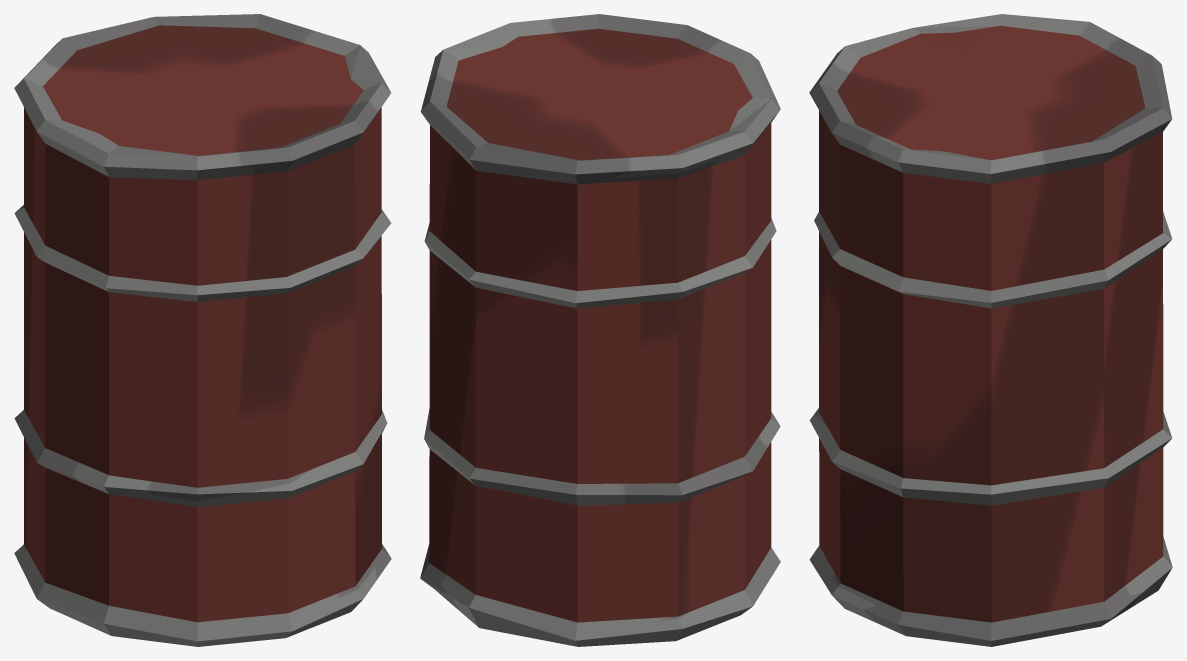
Rendered from SM_Prop_Barrel_Coloured_01_669.obj.
3 views of the same model, side by side, from view 1: azimuth 30°, elevation 25°; view 2: azimuth 150°, elevation 25°; view 3: azimuth 270°, elevation 25° (orthographic).
Parts seen in each view (by area): view 1: SM_Prop_Barrel_Coloured_01_0; view 2: SM_Prop_Barrel_Coloured_01_0; view 3: SM_Prop_Barrel_Coloured_01_0.
Boxes of the visible parts, left/top/right/bottom form: SM_Prop_Barrel_Coloured_01_0: left=14, top=14, right=391, bottom=646; SM_Prop_Barrel_Coloured_01_0: left=420, top=14, right=780, bottom=646; SM_Prop_Barrel_Coloured_01_0: left=809, top=14, right=1172, bottom=646.
Size of the model in its own units: 0.7261 by 1.05 by 0.7052.
Materials: 1 (1 with a texture image).
